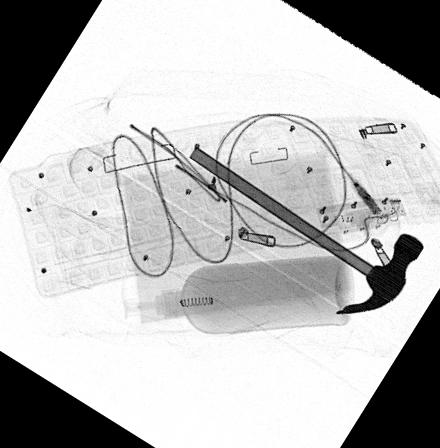Hammer: (188, 145, 424, 313)
